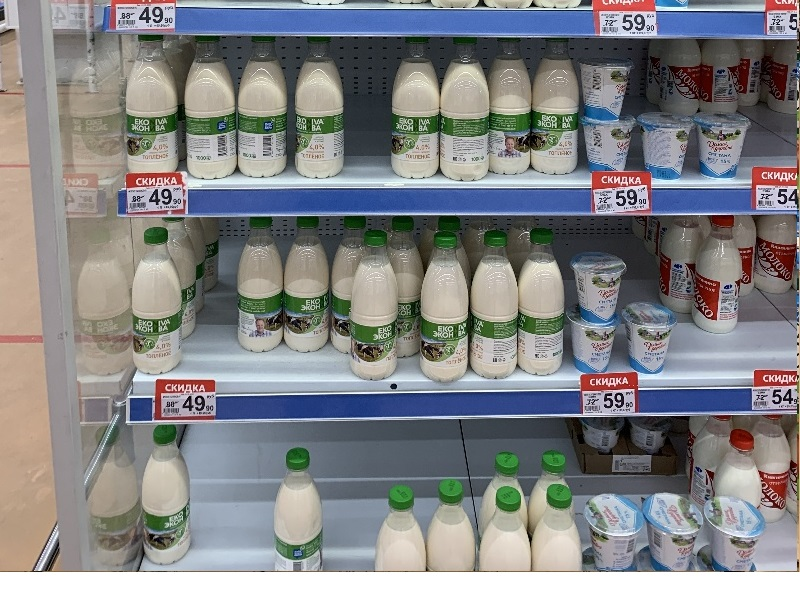milk: (174, 32, 252, 185), (132, 420, 205, 569), (120, 32, 190, 179), (419, 231, 479, 391), (435, 34, 497, 188), (127, 226, 189, 379), (291, 38, 356, 179), (345, 230, 403, 386), (469, 229, 527, 384), (387, 32, 445, 185), (232, 213, 293, 356), (528, 35, 584, 180), (518, 227, 570, 382), (281, 213, 337, 355), (236, 34, 290, 179), (485, 35, 537, 175), (692, 210, 744, 336)
